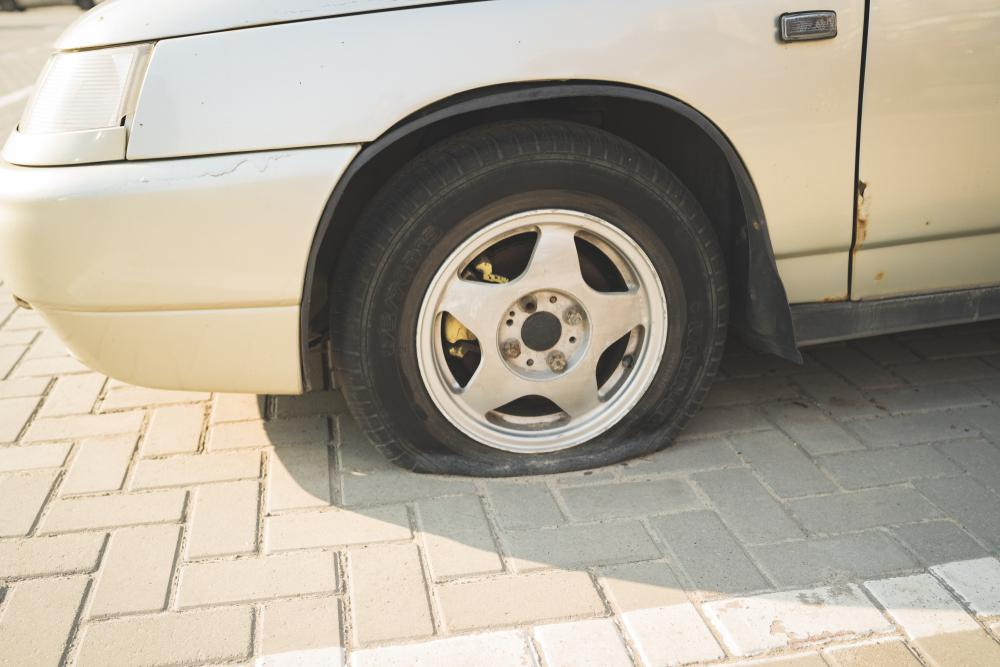tire flat: (333, 114, 730, 476)
